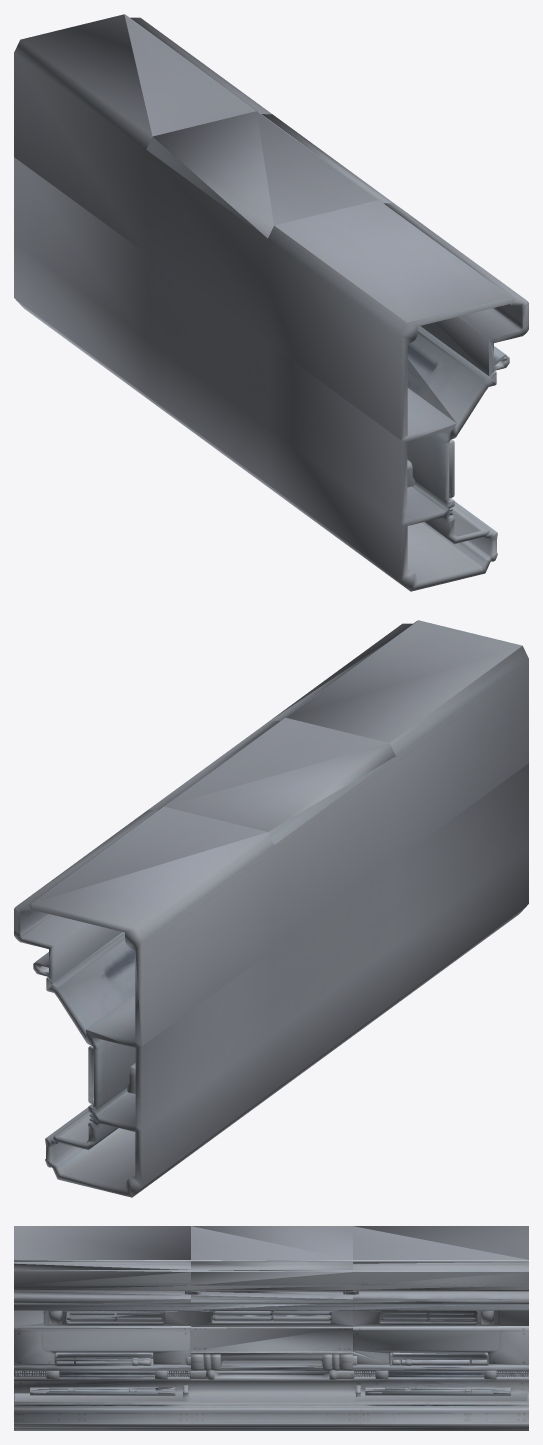
The model's file is tripo_convert_8211a632-e422-4617-954c-eddbcab7c779.fbx.
The picture shows the model from 3 angles, top to bottom: view 1: azimuth 30°, elevation 25°; view 2: azimuth 150°, elevation 25°; view 3: azimuth 270°, elevation 25°; orthographic projection. The views are drawn at different scales.
Parts seen in each view (by area): view 1: tripo_part_0, tripo_part_1, tripo_part_2; view 2: tripo_part_0, tripo_part_1, tripo_part_2; view 3: tripo_part_0, tripo_part_2, tripo_part_1, tripo_part_9, tripo_part_10, tripo_part_11, tripo_part_8, tripo_part_6, tripo_part_29, tripo_part_12, tripo_part_28, tripo_part_7 (+3 smaller).
Part boxes in pixels (x1=…): tripo_part_0: x1=14, y1=157, x2=497, y2=591; tripo_part_1: x1=14, y1=14, x2=528, y2=439; tripo_part_2: x1=124, y1=14, x2=522, y2=375; tripo_part_0: x1=45, y1=763, x2=528, y2=1197; tripo_part_1: x1=14, y1=620, x2=528, y2=1045; tripo_part_2: x1=20, y1=620, x2=522, y2=934; tripo_part_0: x1=14, y1=1304, x2=528, y2=1430; tripo_part_2: x1=14, y1=1226, x2=528, y2=1295; tripo_part_1: x1=14, y1=1226, x2=528, y2=1304; tripo_part_9: x1=365, y1=1387, x2=510, y2=1395; tripo_part_10: x1=30, y1=1387, x2=175, y2=1395; tripo_part_11: x1=206, y1=1370, x2=337, y2=1379; tripo_part_8: x1=212, y1=1315, x2=331, y2=1320; tripo_part_6: x1=212, y1=1311, x2=330, y2=1314; tripo_part_29: x1=388, y1=1374, x2=484, y2=1377; tripo_part_12: x1=401, y1=1359, x2=469, y2=1365; tripo_part_28: x1=59, y1=1374, x2=154, y2=1377; tripo_part_7: x1=380, y1=1317, x2=476, y2=1320.
Bounding box in the file's own units: 0.1909 × 0.3843 × 0.9995.
Materials: 1 (1 with a texture image).
